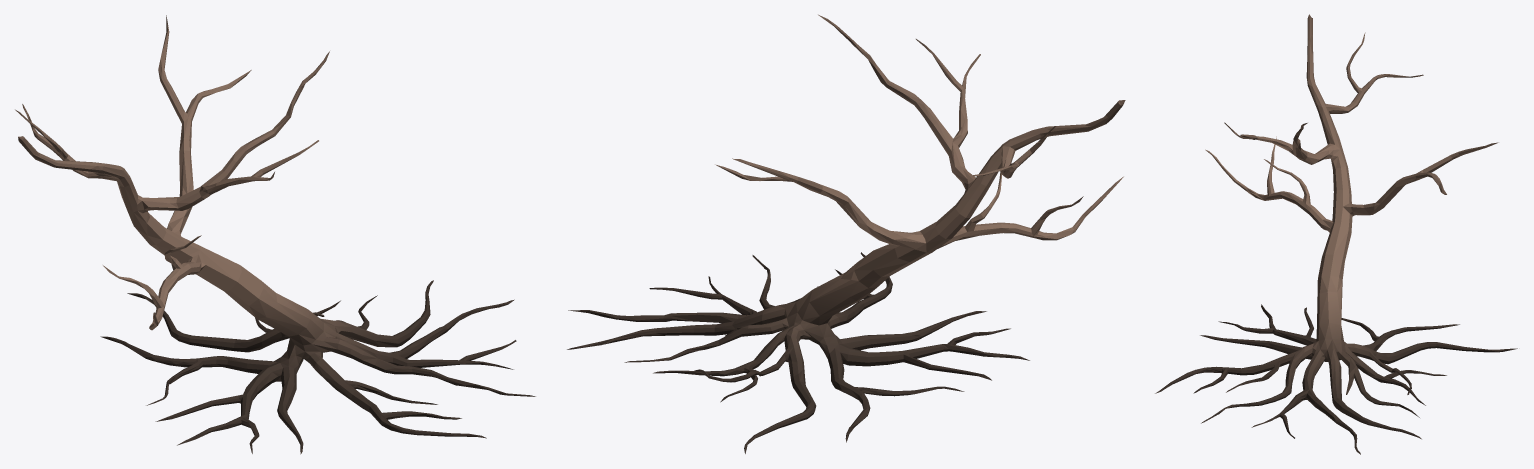
File: Jungle_Tree_Dead_B.fbx
The picture shows the model from 3 angles, left to right: view 1: azimuth 30°, elevation 25°; view 2: azimuth 150°, elevation 25°; view 3: azimuth 270°, elevation 25°; orthographic projection. The views are drawn at different scales.
Visible parts, largest first — view 1: Jungle_Tree_Dead_B; view 2: Jungle_Tree_Dead_B; view 3: Jungle_Tree_Dead_B.
Boxes of the visible parts, x1,y1,x2,y2 form: Jungle_Tree_Dead_B: (15,15,535,454); Jungle_Tree_Dead_B: (567,14,1125,453); Jungle_Tree_Dead_B: (1155,14,1517,454).
Size of the model in its own units: 16.6 by 9.93 by 12.94.
